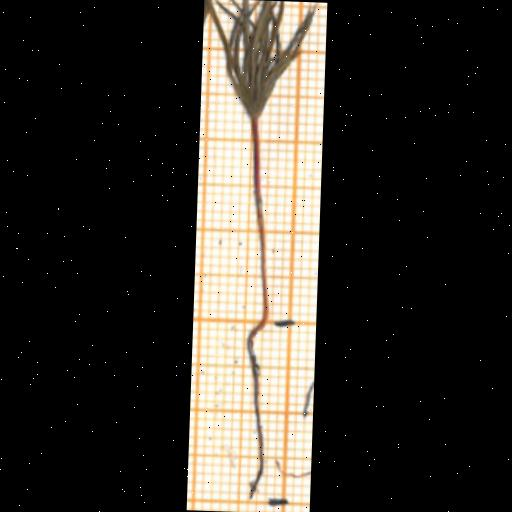flowerPinus: (211, 0, 315, 118)
rootPinus: (246, 321, 264, 497)
stemPinus: (249, 119, 268, 327)
